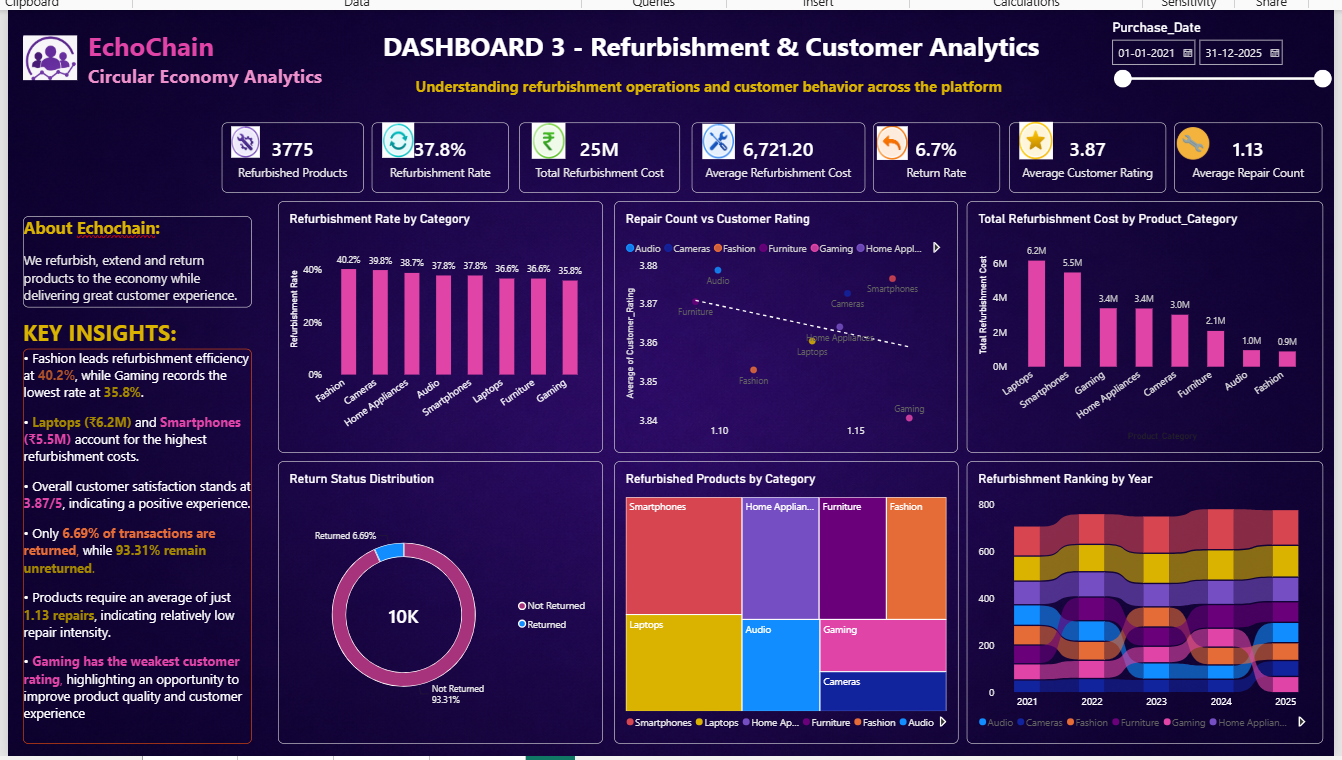

What the dashboard file says about the page in this screenshot:
{"tool":"powerbi","page":{"name":"Page 3","canvas":[1920,1080],"ordinal":2},"visuals":[{"type":"image","box":[21.8,27.3,78.2,83.6],"z":0},{"type":"textbox","box":[116.4,27.3,474.5,96.4],"z":1000},{"type":"textbox","box":[543.6,27.3,1047.3,112.7],"z":2000},{"type":"card","fields":{"Values":["EchoChain_Data_Cleaned.Refurbished Products"]},"box":[309.1,163.6,205.5,101.8],"z":3000},{"type":"card","fields":{"Values":["EchoChain_Data_Cleaned.Refurbishment Rate"]},"box":[527.3,163.6,198.2,101.8],"z":4000},{"type":"card","fields":{"Values":["EchoChain_Data_Cleaned.Total Refurbishment Cost"]},"box":[740,163.6,232.7,101.8],"z":5000},{"type":"card","fields":{"Values":["EchoChain_Data_Cleaned.Average Refurbishment Cost"]},"box":[989.1,163.6,250.9,101.8],"z":6000},{"type":"card","fields":{"Values":["EchoChain_Data_Cleaned.Return Rate"]},"box":[1252.7,163.6,183.6,101.8],"z":7000},{"type":"card","fields":{"Values":["EchoChain_Data_Cleaned.Average Customer Rating"]},"box":[1449.1,163.6,227.3,101.8],"z":8000},{"type":"card","fields":{"Values":["EchoChain_Data_Cleaned.Average Repair Count"]},"box":[1689.1,163.6,214.5,101.8],"z":9000},{"type":"textbox","box":[21.7,298.6,331.2,132.1],"z":10000},{"type":"slicer","fields":{"Values":["EchoChain_Data_Cleaned.Purchase_Date"]},"box":[1590.9,14.5,329.1,154.5],"z":11000},{"type":"image","box":[316.4,169.1,54.5,45.5],"z":12000},{"type":"image","box":[540,163.6,50.9,50.9],"z":13000},{"type":"image","box":[758.2,161.8,49.1,56.4],"z":14000},{"type":"image","box":[1003.6,165.5,49.1,50.9],"z":15000},{"type":"image","box":[1252.7,169.1,56.4,49.1],"z":16000},{"type":"image","box":[1463.6,161.8,49.1,56.4],"z":17000},{"type":"image","box":[1692.7,165.5,47.3,56.4],"z":18000},{"type":"clusteredColumnChart","title":"Refurbishment Rate by Category","fields":{"Category":["EchoChain_Data_Cleaned.Product_Category"],"Y":["EchoChain_Data_Cleaned.Refurbishment Rate"]},"box":[390.9,276.9,470.5,363.7],"z":19000},{"type":"scatterChart","title":"Repair Count vs Customer Rating","fields":{"X":["EchoChain_Data_Cleaned.Average Repair Count"],"Y":["EchoChain_Data_Cleaned.Customer_Rating"],"Series":["EchoChain_Data_Cleaned.Product_Category"]},"box":[877.7,276.9,497.7,363.7],"z":20000},{"type":"columnChart","fields":{"Category":["EchoChain_Data_Cleaned.Product_Category"],"Y":["EchoChain_Data_Cleaned.Total Refurbishment Cost"]},"box":[1388,276.9,515.8,363.7],"z":21000},{"type":"donutChart","title":"Return Status Distribution","fields":{"Category":["EchoChain_Data_Cleaned.Return_Status"],"Y":["CountNonNull(EchoChain_Data_Cleaned.Transaction_ID)"]},"box":[390.9,653.3,470.5,409],"z":22000},{"type":"treemap","title":"Refurbished Products by Category","fields":{"Group":["EchoChain_Data_Cleaned.Product_Category"],"Values":["EchoChain_Data_Cleaned.Refurbished Products"]},"box":[878,653,498,409],"z":23000},{"type":"ribbonChart","title":"Refurbishment Ranking by Year","fields":{"Category":["EchoChain_Data_Cleaned.Purchase_Date.Variation.Date Hierarchy.Year"],"Series":["EchoChain_Data_Cleaned.Product_Category"],"Y":["EchoChain_Data_Cleaned.Refurbished Products"]},"box":[1388,653,516,409],"z":24000},{"type":"textbox","box":[21.7,445.2,331.2,45.2],"z":25000},{"type":"textbox","box":[21.7,490.4,331.2,571.9],"z":26000}]}

Visuals, with their boxes on the page's 1920x1080 design canvas (x1, y1, x2, y2). These are canvas units, not pixel positions in the 1342x760 screenshot, which may show the page scaled, cropped or inside an application window:
image: (22,27,100,111)
textbox: (116,27,591,124)
textbox: (544,27,1591,140)
card - EchoChain_Data_Cleaned.Refurbished Products: (309,164,515,265)
card - EchoChain_Data_Cleaned.Refurbishment Rate: (527,164,726,265)
card - EchoChain_Data_Cleaned.Total Refurbishment Cost: (740,164,973,265)
card - EchoChain_Data_Cleaned.Average Refurbishment Cost: (989,164,1240,265)
card - EchoChain_Data_Cleaned.Return Rate: (1253,164,1436,265)
card - EchoChain_Data_Cleaned.Average Customer Rating: (1449,164,1676,265)
card - EchoChain_Data_Cleaned.Average Repair Count: (1689,164,1904,265)
textbox: (22,299,353,431)
slicer - EchoChain_Data_Cleaned.Purchase_Date: (1591,14,1920,169)
image: (316,169,371,215)
image: (540,164,591,214)
image: (758,162,807,218)
image: (1004,166,1053,216)
image: (1253,169,1309,218)
image: (1464,162,1513,218)
image: (1693,166,1740,222)
"Refurbishment Rate by Category" clusteredColumnChart: (391,277,861,641)
"Repair Count vs Customer Rating" scatterChart: (878,277,1375,641)
columnChart - EchoChain_Data_Cleaned.Product_Category x EchoChain_Data_Cleaned.Total Refurbishment Cost: (1388,277,1904,641)
"Return Status Distribution" donutChart: (391,653,861,1062)
"Refurbished Products by Category" treemap: (878,653,1376,1062)
"Refurbishment Ranking by Year" ribbonChart: (1388,653,1904,1062)
textbox: (22,445,353,490)
textbox: (22,490,353,1062)
